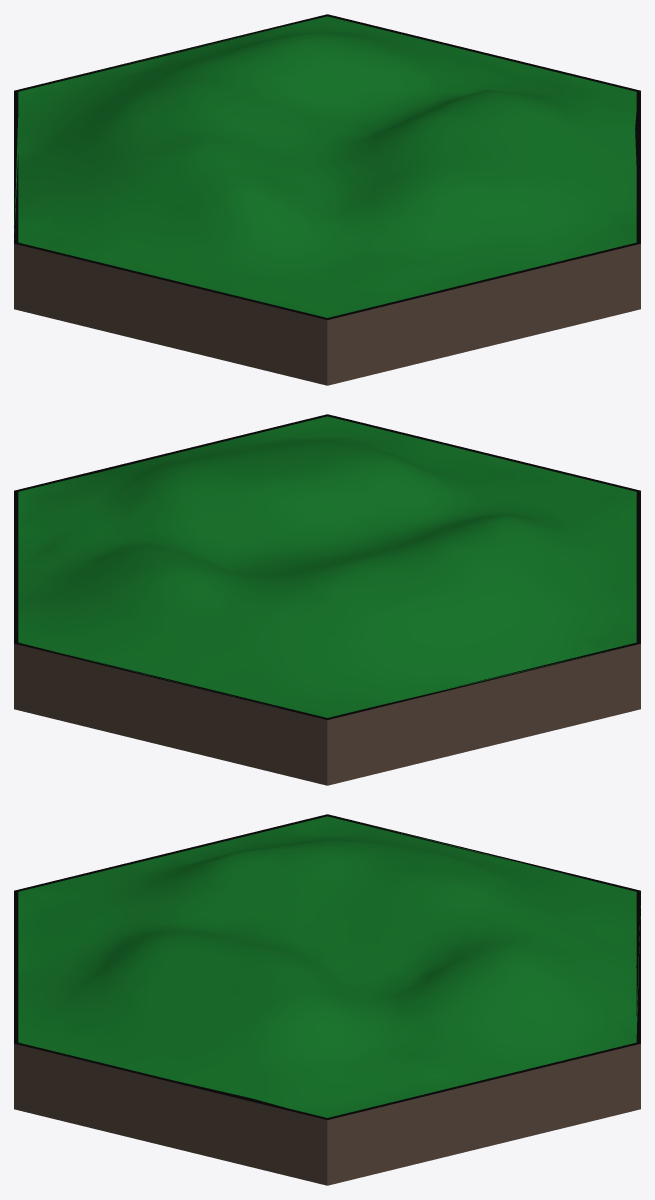
The model's file is HighlandsTile.fbx.
3 views of the same model, one above another, from view 1: azimuth 30°, elevation 25°; view 2: azimuth 150°, elevation 25°; view 3: azimuth 270°, elevation 25° (orthographic).
Visible parts, largest first — view 1: Tile; view 2: Tile; view 3: Tile.
Boxes of the visible parts, bbox=[...] form: Tile: bbox=[14, 14, 640, 385]; Tile: bbox=[14, 414, 640, 785]; Tile: bbox=[14, 814, 640, 1185].
Size of the model in its own units: 500 by 90.85 by 433.
